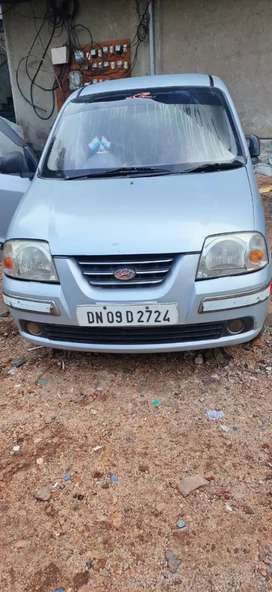DN09D2724: (77, 302, 178, 323)
